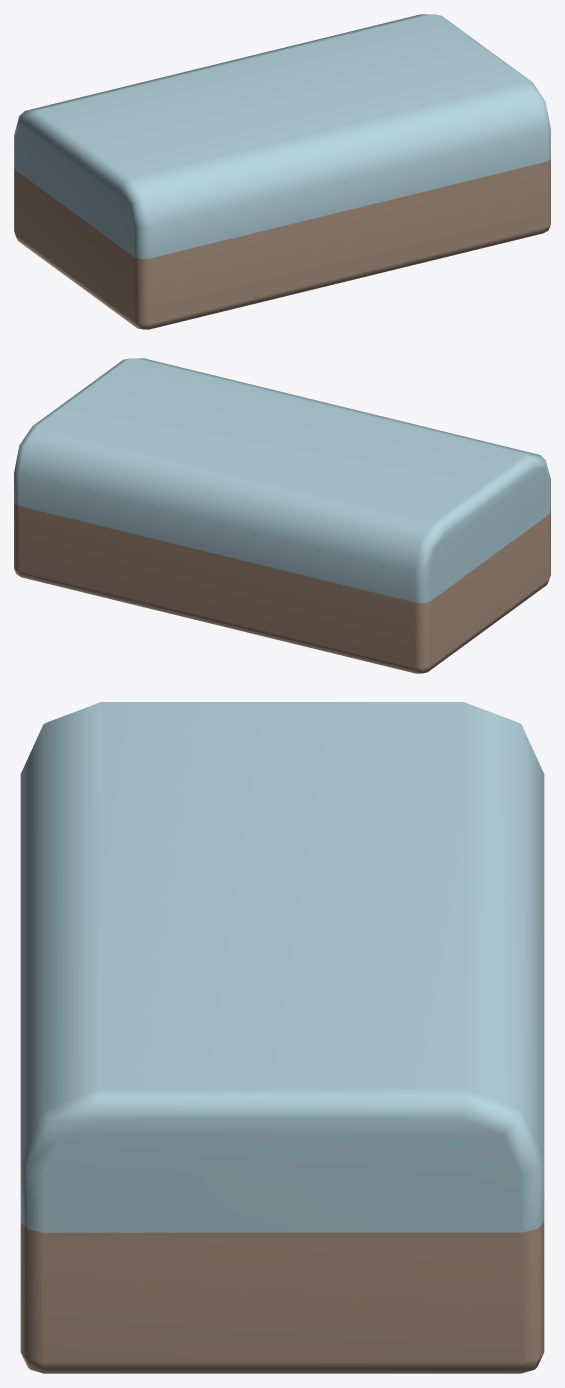
The model's file is Padded_stool_1.glb.
3 views of the same model, one above another, from view 1: azimuth 30°, elevation 25°; view 2: azimuth 150°, elevation 25°; view 3: azimuth 270°, elevation 25° (orthographic). The views are drawn at different scales.
Parts seen in each view (by area): view 1: Padded_stool_1; view 2: Padded_stool_1; view 3: Padded_stool_1.
Part boxes in pixels (box(x1,y1,x2,y2)): Padded_stool_1: box(14, 14, 550, 329); Padded_stool_1: box(14, 358, 550, 673); Padded_stool_1: box(20, 702, 544, 1373).
Size of the model in its own units: 1.47 by 0.4791 by 0.8013.
Materials: 1 (1 with a texture image).
